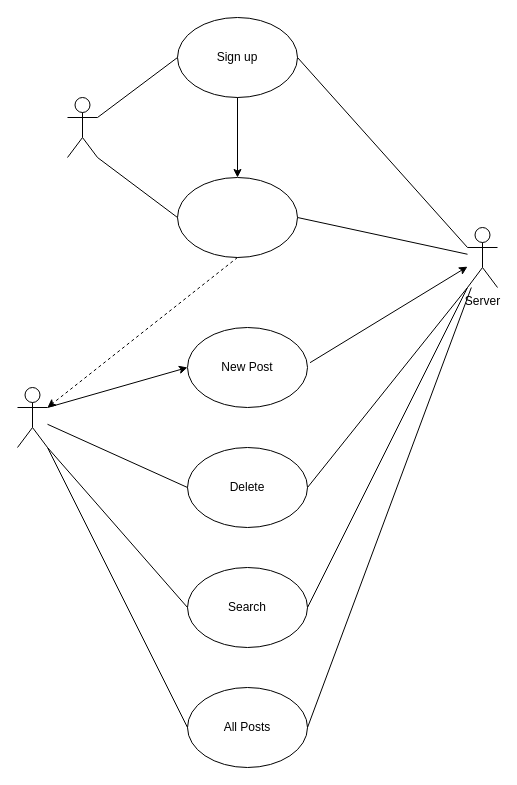
Image size: 517x785. Some labels were removed from this diagram. The shapes that lost their labels are listed below. From the top down, each one's box as (x1, y1, x2, y2) in pixels, then its label:
(66, 96, 98, 158): Guest
(176, 176, 298, 258): Log in
(16, 386, 48, 448): User
